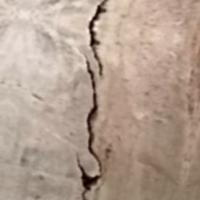crack: (67, 0, 124, 199)
